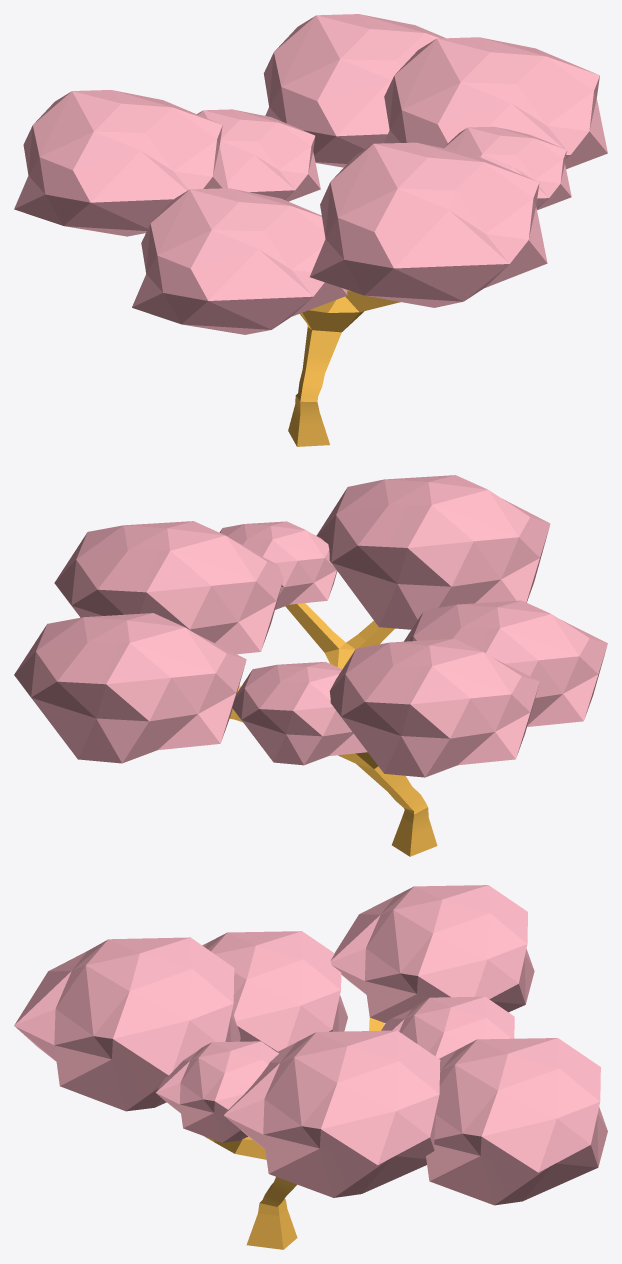
The model's file is Puno.fbx.
3 views of the same model, one above another, from view 1: azimuth 30°, elevation 25°; view 2: azimuth 150°, elevation 25°; view 3: azimuth 270°, elevation 25° (orthographic). The views are drawn at different scales.
Parts seen in each view (by area): view 1: Icosphere, Icosphere.006, Icosphere.007, Icosphere.002, Icosphere.003, Icosphere.004, bushy, Icosphere.001; view 2: Icosphere.003, Icosphere, Icosphere.006, Icosphere.002, Icosphere.007, Icosphere.004, bushy, Icosphere.001; view 3: Icosphere, Icosphere.002, Icosphere.003, Icosphere.006, Icosphere.007, Icosphere.001, Icosphere.004, bushy.
Boxes of the visible parts, left/top/right/bottom form: Icosphere: left=310, top=142, right=547, bottom=307; Icosphere.006: left=14, top=90, right=227, bottom=236; Icosphere.007: left=132, top=188, right=347, bottom=334; Icosphere.002: left=384, top=37, right=607, bottom=169; Icosphere.003: left=263, top=14, right=445, bottom=167; Icosphere.004: left=197, top=109, right=320, bottom=201; bushy: left=288, top=290, right=400, bottom=446; Icosphere.001: left=444, top=126, right=571, bottom=210; Icosphere.003: left=14, top=613, right=246, bottom=763; Icosphere: left=316, top=475, right=550, bottom=629; Icosphere.006: left=329, top=638, right=539, bottom=777; Icosphere.002: left=54, top=521, right=283, bottom=654; Icosphere.007: left=404, top=600, right=607, bottom=726; Icosphere.004: left=232, top=662, right=367, bottom=765; bushy: left=230, top=603, right=437, bottom=856; Icosphere.001: left=219, top=521, right=337, bottom=609; Icosphere: left=14, top=937, right=240, bottom=1111; Icosphere.002: left=223, top=1030, right=440, bottom=1197; Icosphere.003: left=426, top=1038, right=607, bottom=1205; Icosphere.006: left=330, top=885, right=534, bottom=1022; Icosphere.007: left=202, top=931, right=347, bottom=1051; Icosphere.001: left=156, top=1041, right=278, bottom=1142; Icosphere.004: left=381, top=996, right=514, bottom=1058; bushy: left=204, top=1017, right=384, bottom=1249.
Size of the model in its own units: 2048 by 1197 by 2041.
